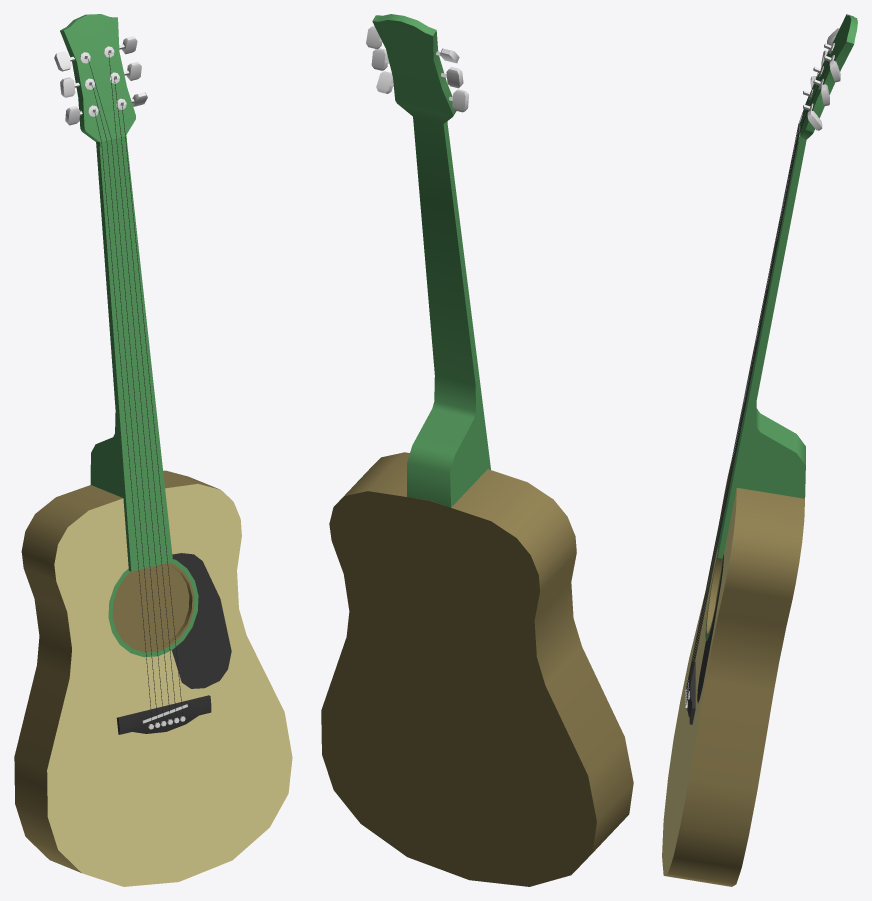
The picture shows the model from 3 angles, left to right: view 1: azimuth 30°, elevation 25°; view 2: azimuth 150°, elevation 25°; view 3: azimuth 270°, elevation 25°; orthographic projection. The views are drawn at different scales.
Parts seen in each view (by area): view 1: D52NS; view 2: D52NS; view 3: D52NS.
Part boxes in pixels (x1=…): D52NS: x1=14, y1=14, x2=292, y2=886; D52NS: x1=321, y1=14, x2=633, y2=886; D52NS: x1=662, y1=14, x2=857, y2=886.
Size of the model in its own units: 39 by 25.89 by 124.
